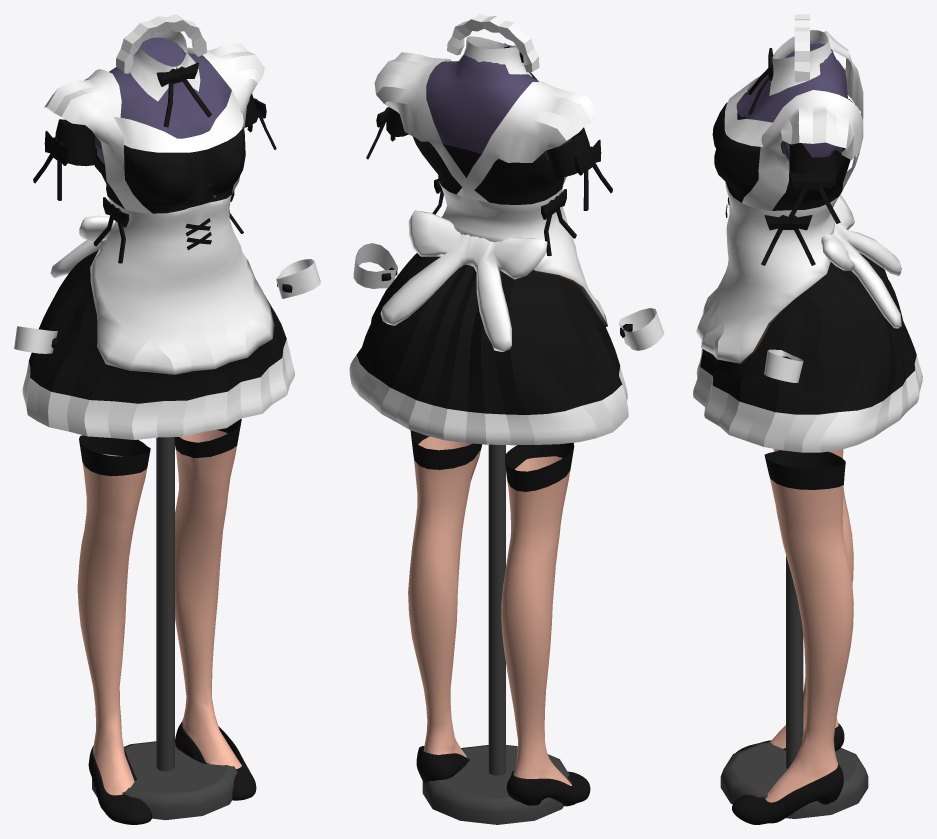
File: Dress_8.fbx
3 renders of one model, left to right at view 1: azimuth 30°, elevation 25°; view 2: azimuth 150°, elevation 25°; view 3: azimuth 270°, elevation 25°, orthographic.
Parts seen in each view (by area): view 1: dress_7, dress_7_stockings, dummy_1, shoes_5, dress_7_tie, dress_7_sleeves, dress_7_ears; view 2: dress_7, dress_7_stockings, dummy_1, shoes_5, dress_7_sleeves, dress_7_ears, dress_7_tie; view 3: dress_7, dress_7_stockings, dummy_1, shoes_5, dress_7_tie, dress_7_ears, dress_7_sleeves.
Part boxes in pixels (<box>): dress_7: <box>22,43,294,439</box>; dress_7_stockings: <box>77,419,241,795</box>; dummy_1: <box>92,37,237,820</box>; shoes_5: <box>88,722,256,824</box>; dress_7_tie: <box>130,29,211,127</box>; dress_7_sleeves: <box>14,259,320,353</box>; dress_7_ears: <box>116,14,206,73</box>; dress_7: <box>349,52,628,445</box>; dress_7_stockings: <box>408,430,574,785</box>; dummy_1: <box>422,54,571,824</box>; shoes_5: <box>416,746,590,806</box>; dress_7_sleeves: <box>353,243,664,350</box>; dress_7_ears: <box>447,14,539,72</box>; dress_7_tie: <box>459,36,536,79</box>; dress_7: <box>693,31,922,452</box>; dress_7_stockings: <box>764,448,853,802</box>; dummy_1: <box>720,43,868,818</box>; shoes_5: <box>732,723,844,824</box>; dress_7_tie: <box>748,30,831,114</box>; dress_7_ears: <box>794,14,809,82</box>; dress_7_sleeves: <box>764,349,803,382</box>.
Bounding box in the file's own units: 0.7113 × 1.74 × 0.47.
